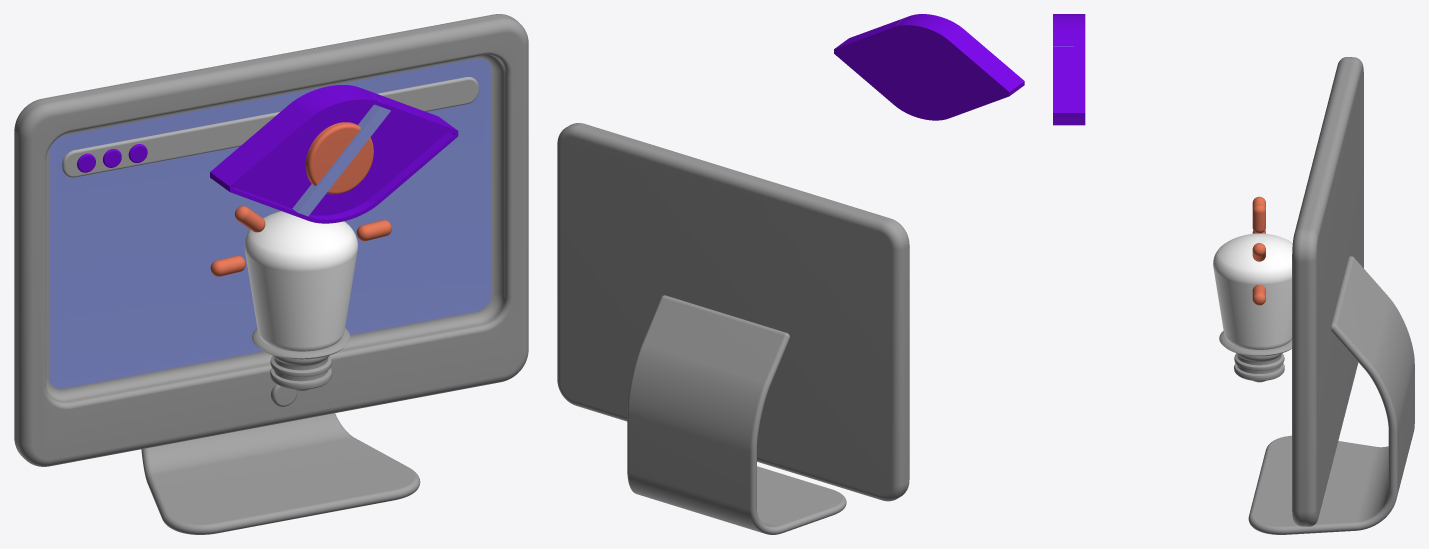
The model's file is unsupervised-learning-3d-animated-icon-251704568801.glb.
The picture shows the model from 3 angles, left to right: view 1: azimuth 30°, elevation 25°; view 2: azimuth 150°, elevation 25°; view 3: azimuth 270°, elevation 25°; orthographic projection. The views are drawn at different scales.
Visible parts, largest first — view 1: Cube.004, Plane.011, Cube, Cylinder.006, Plane.009, Cylinder.008, Cylinder.007, Cube.001, Cylinder; view 2: Cube.004, Plane.011, Cube; view 3: Cube.004, Plane.011, Cylinder.006, Cube, Cylinder.007.
Part boxes in pixels (x1,y1,x2,y2): Cube.004: [14, 14, 528, 466]; Plane.011: [141, 413, 420, 534]; Cube: [210, 85, 458, 223]; Cylinder.006: [244, 211, 357, 351]; Plane.009: [62, 77, 478, 177]; Cylinder.008: [305, 122, 373, 194]; Cylinder.007: [252, 328, 350, 391]; Cube.001: [292, 97, 390, 216]; Cylinder: [77, 144, 147, 172]; Cube.004: [557, 123, 909, 501]; Plane.011: [627, 295, 846, 534]; Cube: [834, 14, 1024, 120]; Cube.004: [1292, 57, 1363, 526]; Plane.011: [1248, 256, 1414, 534]; Cylinder.006: [1213, 233, 1292, 349]; Cube: [1053, 14, 1085, 125]; Cylinder.007: [1219, 331, 1291, 382].
Size of the model in its own units: 0.4145 by 0.4372 by 0.3318.
